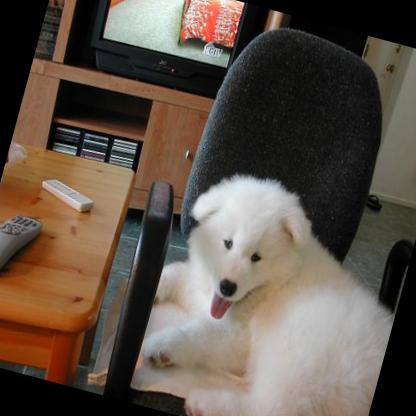Samoyed: (126, 154, 416, 416)
